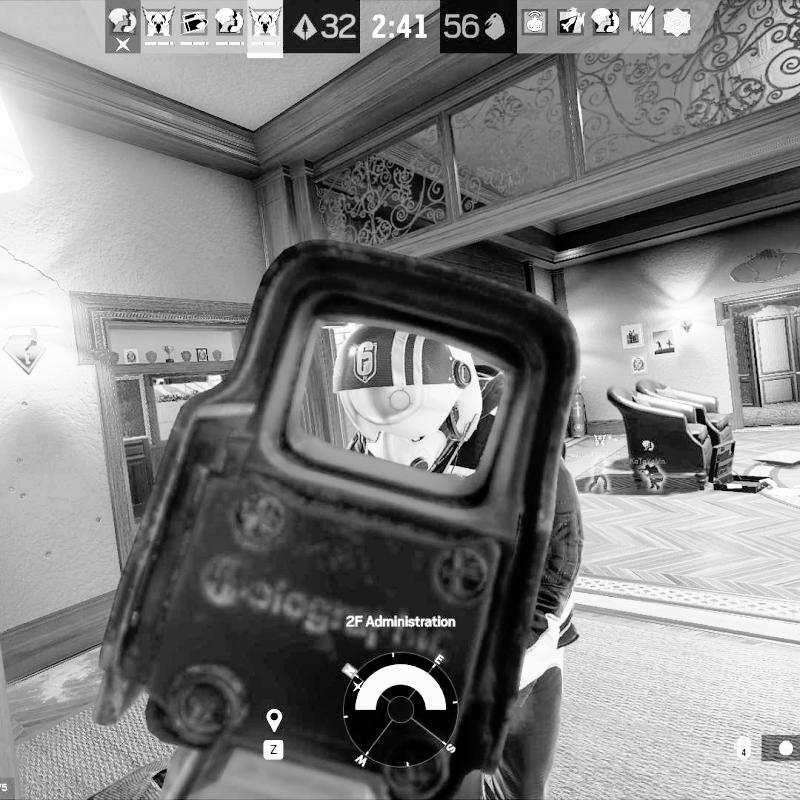Character: (320, 308, 586, 800)
Friend_label: (574, 432, 622, 460), (628, 439, 669, 467)
Head: (333, 317, 486, 476)
